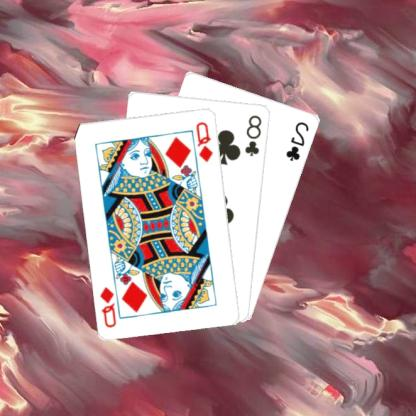2C: (285, 118, 313, 162)
8C: (244, 112, 265, 157)
QD: (195, 119, 217, 163), (99, 284, 120, 328)
